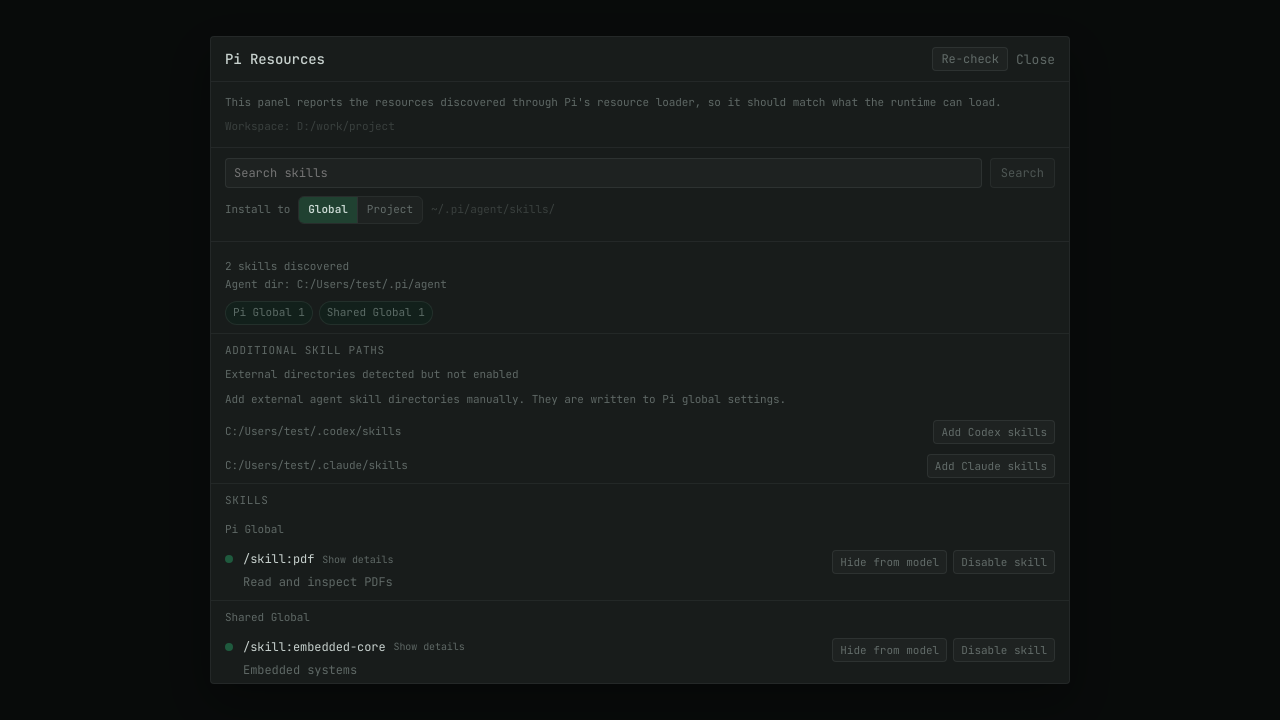
Skills › shows install errors without clearing search results
This screenshot has width=1280, height=720.
Expected: the text "/skill:pdf" is shown, [243, 550, 314, 569]
Type "pdf" into the field with placeholder "Search skills". click: (603, 173)
box: [225, 158, 982, 188]
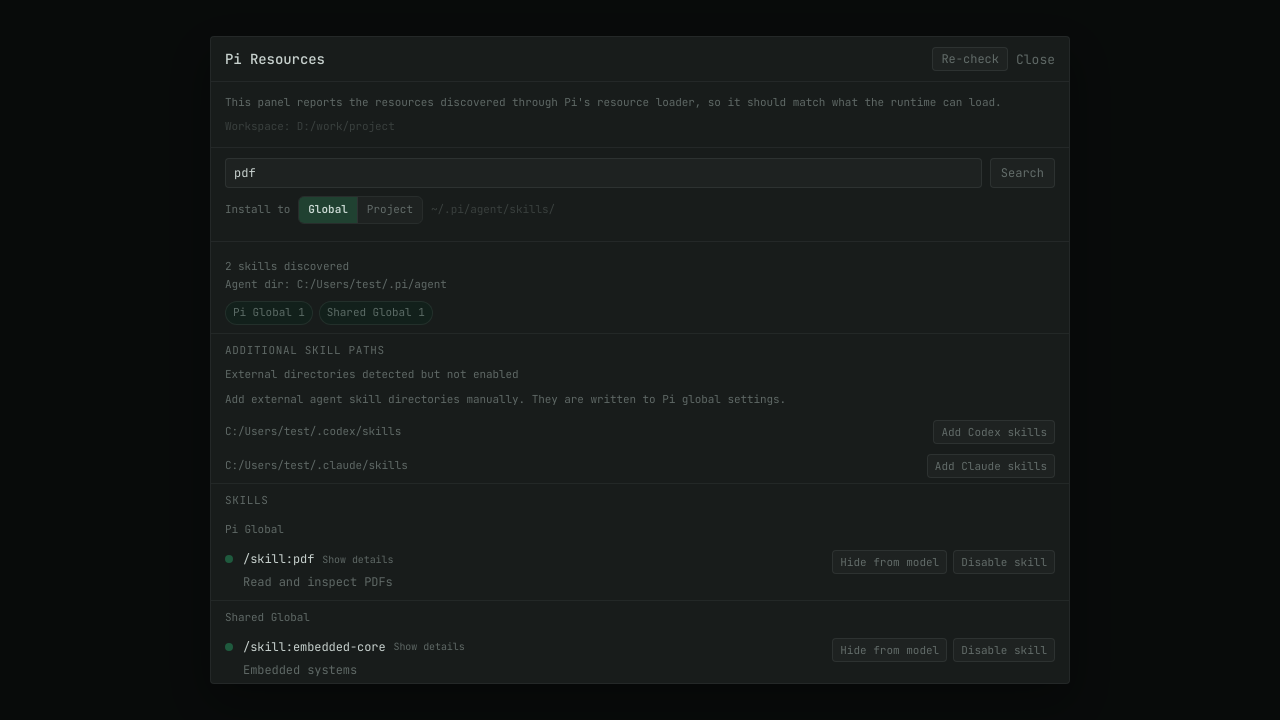
Click the button "Search". click: (1022, 173)
box: [990, 158, 1055, 188]
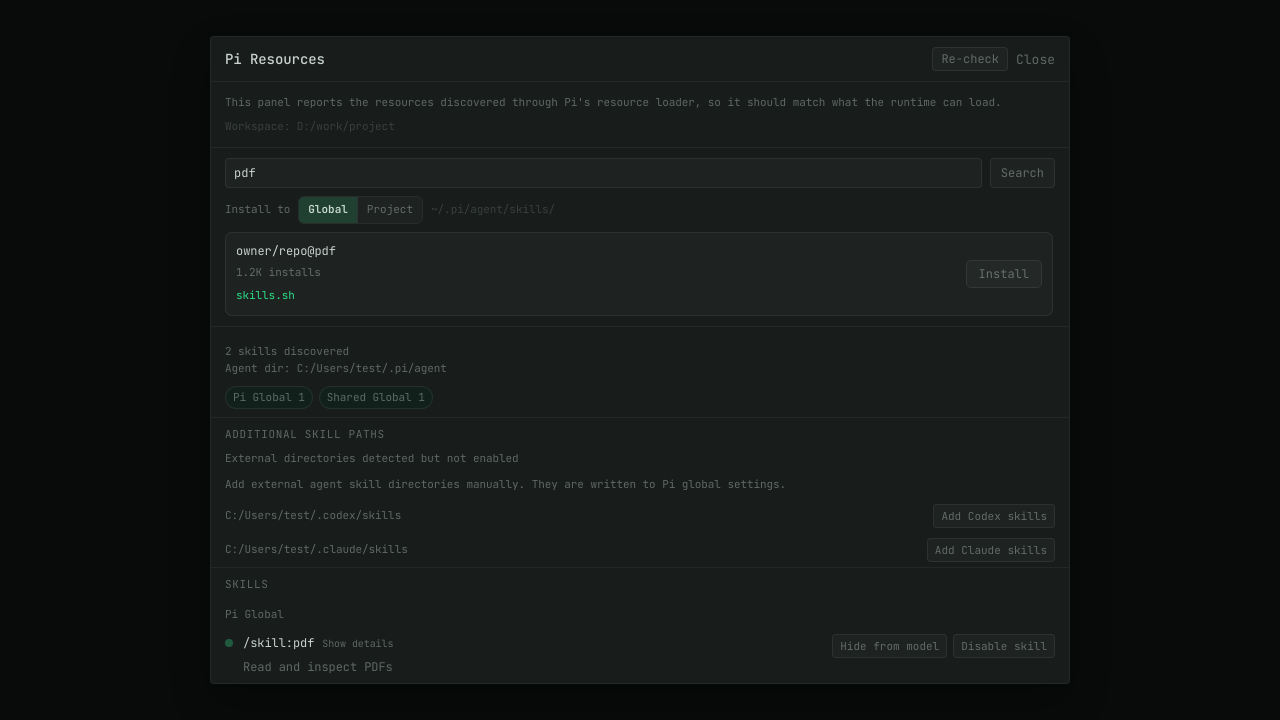
Expected: the text "owner/repo@pdf" is shown, [236, 243, 336, 259]
Click the button "Install". click: (1004, 274)
box: [966, 260, 1042, 288]
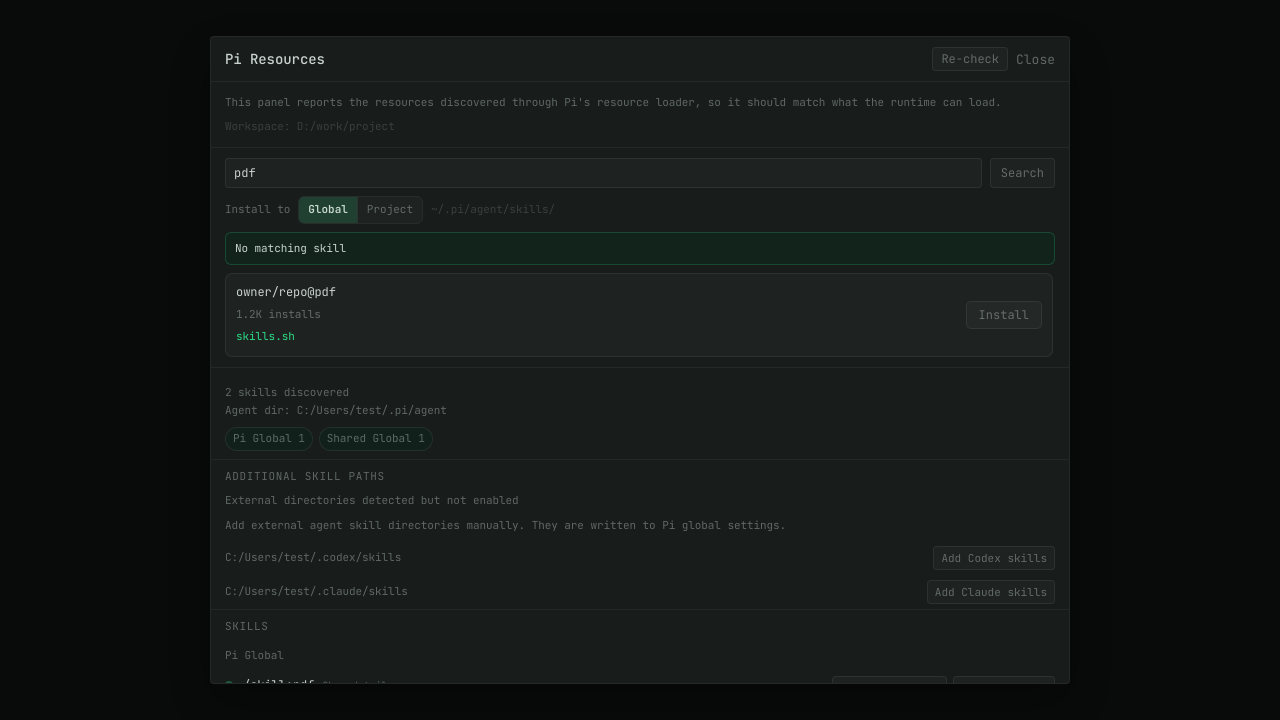
Expected: the text "owner/repo@pdf" is shown, [236, 284, 336, 300]
Expected: the text "No matching skill" is shown, [225, 232, 1055, 265]
